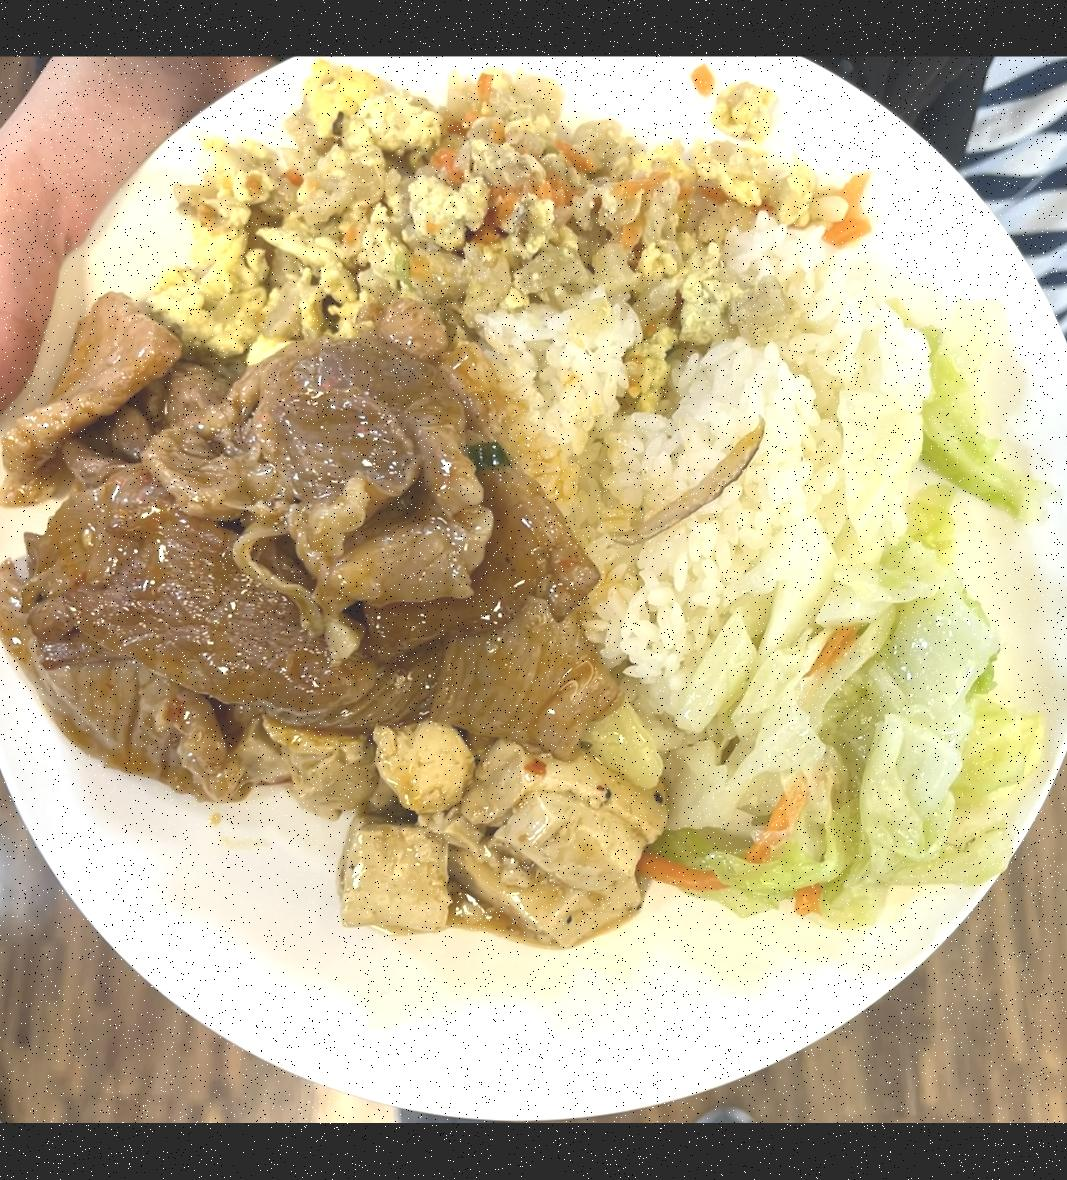plate: (0, 56, 1067, 1110)
sauteed pork: (4, 296, 610, 760)
side dish: (657, 328, 1053, 921), (175, 81, 846, 346), (347, 720, 673, 956)
white rice: (474, 303, 820, 689)
